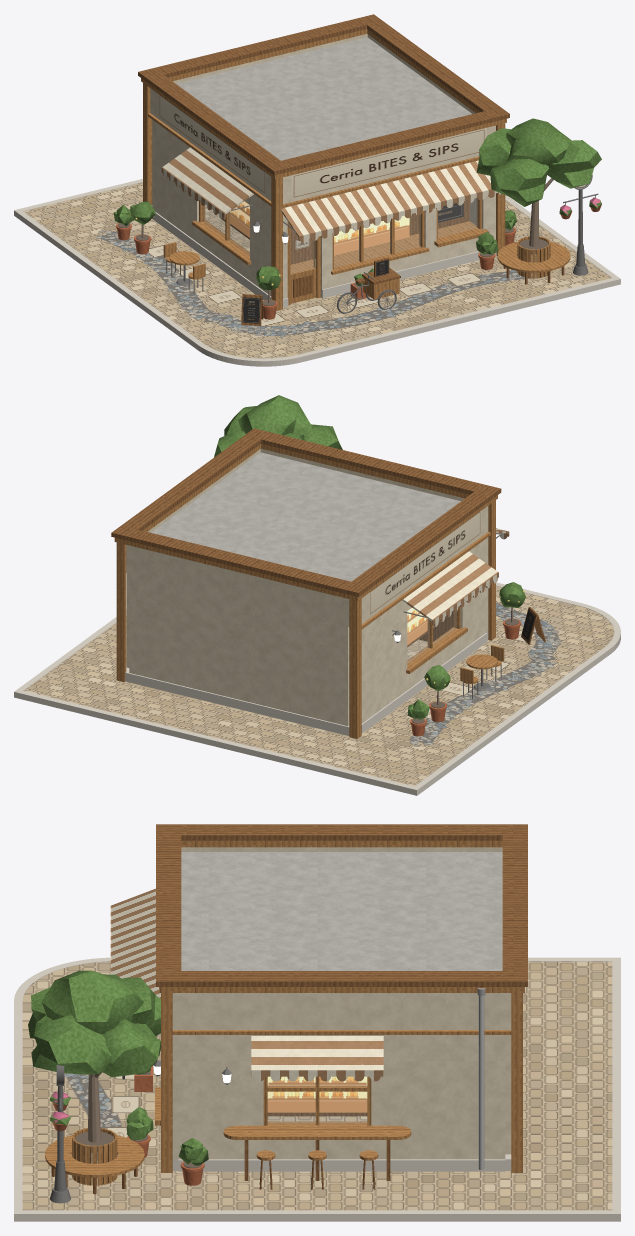
The model's file is bites_sips_pavilion.glb.
3 renders of one model, top to bottom at view 1: azimuth 30°, elevation 25°; view 2: azimuth 150°, elevation 25°; view 3: azimuth 270°, elevation 25°, orthographic. The views are drawn at different scales.
Visible parts, largest first — view 1: Sidewalk_Mosaic_Sidewalk_Artistic_Mosaic, Roof_Deck_Roof_Grey_Membrane, Timber_Cornice_Wood_Dark_Oak, Awning_Roof_Fabric_Awning_Caramel, Walls_Stucco_Stucco_Warm_Butter, Foliage_3D_Foliage_Cafe_Tree, Sidewalk_Curb_Curb_Limestone, Window_Glass_Glass_Cafe_Clear, Sign_Front_Main, Timber_Cornice_Wood_Honey_Oak, Window_Oak_Wood_Honey_Oak, Timber_Pilasters_Wood_Honey_Oak (+18 smaller); view 2: Sidewalk_Mosaic_Sidewalk_Artistic_Mosaic, Walls_Stucco_Stucco_Warm_Butter, Roof_Deck_Roof_Grey_Membrane, Timber_Cornice_Wood_Dark_Oak, Fascia_Walls_Stucco_Warm_Butter, Sidewalk_Curb_Curb_Limestone, Foliage_3D_Foliage_Cafe_Tree, Timber_Pilasters_Wood_Honey_Oak, Timber_Cornice_Wood_Honey_Oak, Walls_Plinth_Curb_Limestone, Awning_Roof_Fabric_Awning_Caramel, Sign_Left_Main (+5 smaller); view 3: Sidewalk_Mosaic_Sidewalk_Artistic_Mosaic, Roof_Deck_Roof_Grey_Membrane, Walls_Stucco_Stucco_Warm_Butter, Timber_Cornice_Wood_Dark_Oak, Fascia_Walls_Stucco_Warm_Butter, Foliage_3D_Foliage_Cafe_Tree, Sidewalk_Curb_Curb_Limestone, Awning_Roof_Fabric_Awning_Caramel, Timber_Cornice_Wood_Honey_Oak, Timber_Pilasters_Wood_Honey_Oak, Walls_Plinth_Curb_Limestone, Window_Glass_Glass_Cafe_Clear (+12 smaller).
Part boxes in pixels (bbox=[...]): Sidewalk_Mosaic_Sidewalk_Artistic_Mosaic: bbox=[23, 182, 611, 358]; Roof_Deck_Roof_Grey_Membrane: bbox=[176, 37, 471, 160]; Timber_Cornice_Wood_Dark_Oak: bbox=[138, 14, 509, 175]; Awning_Roof_Fabric_Awning_Caramel: bbox=[162, 147, 491, 237]; Walls_Stucco_Stucco_Warm_Butter: bbox=[152, 120, 495, 298]; Foliage_3D_Foliage_Cafe_Tree: bbox=[113, 118, 601, 289]; Sidewalk_Curb_Curb_Limestone: bbox=[14, 179, 620, 366]; Window_Glass_Glass_Cafe_Clear: bbox=[203, 198, 477, 267]; Sign_Front_Main: bbox=[291, 127, 486, 199]; Timber_Cornice_Wood_Honey_Oak: bbox=[141, 29, 506, 179]; Window_Oak_Wood_Honey_Oak: bbox=[192, 198, 489, 274]; Timber_Pilasters_Wood_Honey_Oak: bbox=[143, 83, 505, 310]; Sidewalk_Mosaic_Sidewalk_Artistic_Mosaic: bbox=[24, 586, 614, 786]; Walls_Stucco_Stucco_Warm_Butter: bbox=[126, 537, 488, 726]; Roof_Deck_Roof_Grey_Membrane: bbox=[151, 452, 460, 581]; Timber_Cornice_Wood_Dark_Oak: bbox=[111, 428, 501, 596]; Fascia_Walls_Stucco_Warm_Butter: bbox=[126, 448, 488, 626]; Sidewalk_Curb_Curb_Limestone: bbox=[14, 582, 620, 795]; Foliage_3D_Foliage_Cafe_Tree: bbox=[214, 395, 525, 719]; Timber_Pilasters_Wood_Honey_Oak: bbox=[116, 500, 495, 738]; Timber_Cornice_Wood_Honey_Oak: bbox=[114, 443, 497, 600]; Walls_Plinth_Curb_Limestone: bbox=[125, 631, 488, 735]; Awning_Roof_Fabric_Awning_Caramel: bbox=[402, 528, 508, 621]; Sign_Left_Main: bbox=[369, 511, 481, 616]; Sidewalk_Mosaic_Sidewalk_Artistic_Mosaic: bbox=[22, 961, 612, 1210]; Roof_Deck_Roof_Grey_Membrane: bbox=[181, 852, 502, 970]; Walls_Stucco_Stucco_Warm_Butter: bbox=[172, 1035, 511, 1159]; Timber_Cornice_Wood_Dark_Oak: bbox=[156, 824, 527, 986]; Fascia_Walls_Stucco_Warm_Butter: bbox=[172, 847, 511, 1029]; Foliage_3D_Foliage_Cafe_Tree: bbox=[28, 970, 208, 1165]; Sidewalk_Curb_Curb_Limestone: bbox=[14, 957, 620, 1221]; Awning_Roof_Fabric_Awning_Caramel: bbox=[111, 888, 383, 1069]; Timber_Cornice_Wood_Honey_Oak: bbox=[159, 840, 524, 992]; Timber_Pilasters_Wood_Honey_Oak: bbox=[161, 993, 522, 1172]; Walls_Plinth_Curb_Limestone: bbox=[172, 1154, 511, 1171]; Window_Glass_Glass_Cafe_Clear: bbox=[268, 1077, 366, 1123].
Bounding box in the file's own units: 12.4 × 4.82 × 12.4.
Materials: 24 (14 with a texture image).
